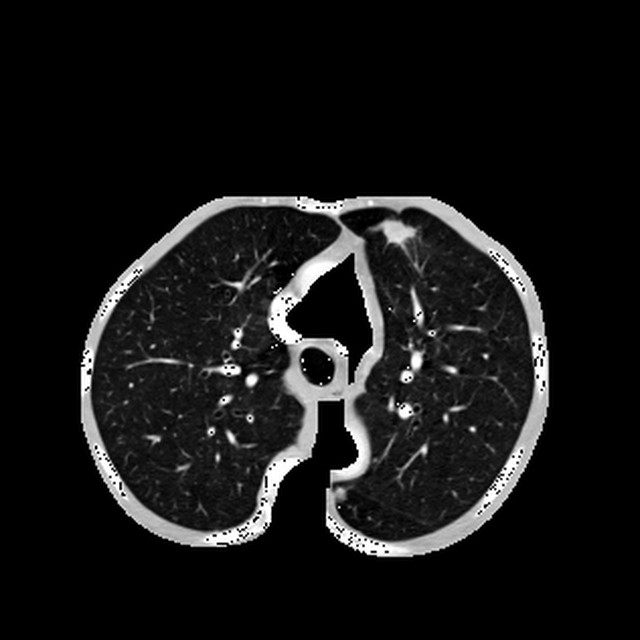PN: (383, 217, 411, 245)
